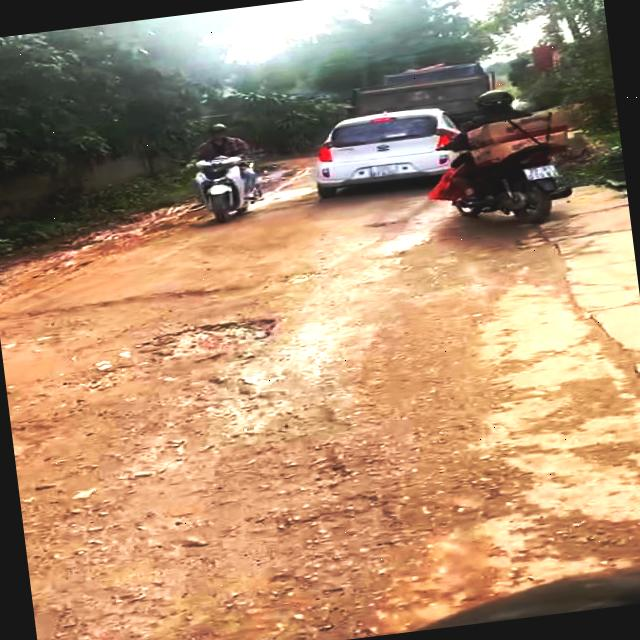pothole: (0, 277, 281, 362), (145, 312, 296, 366)
